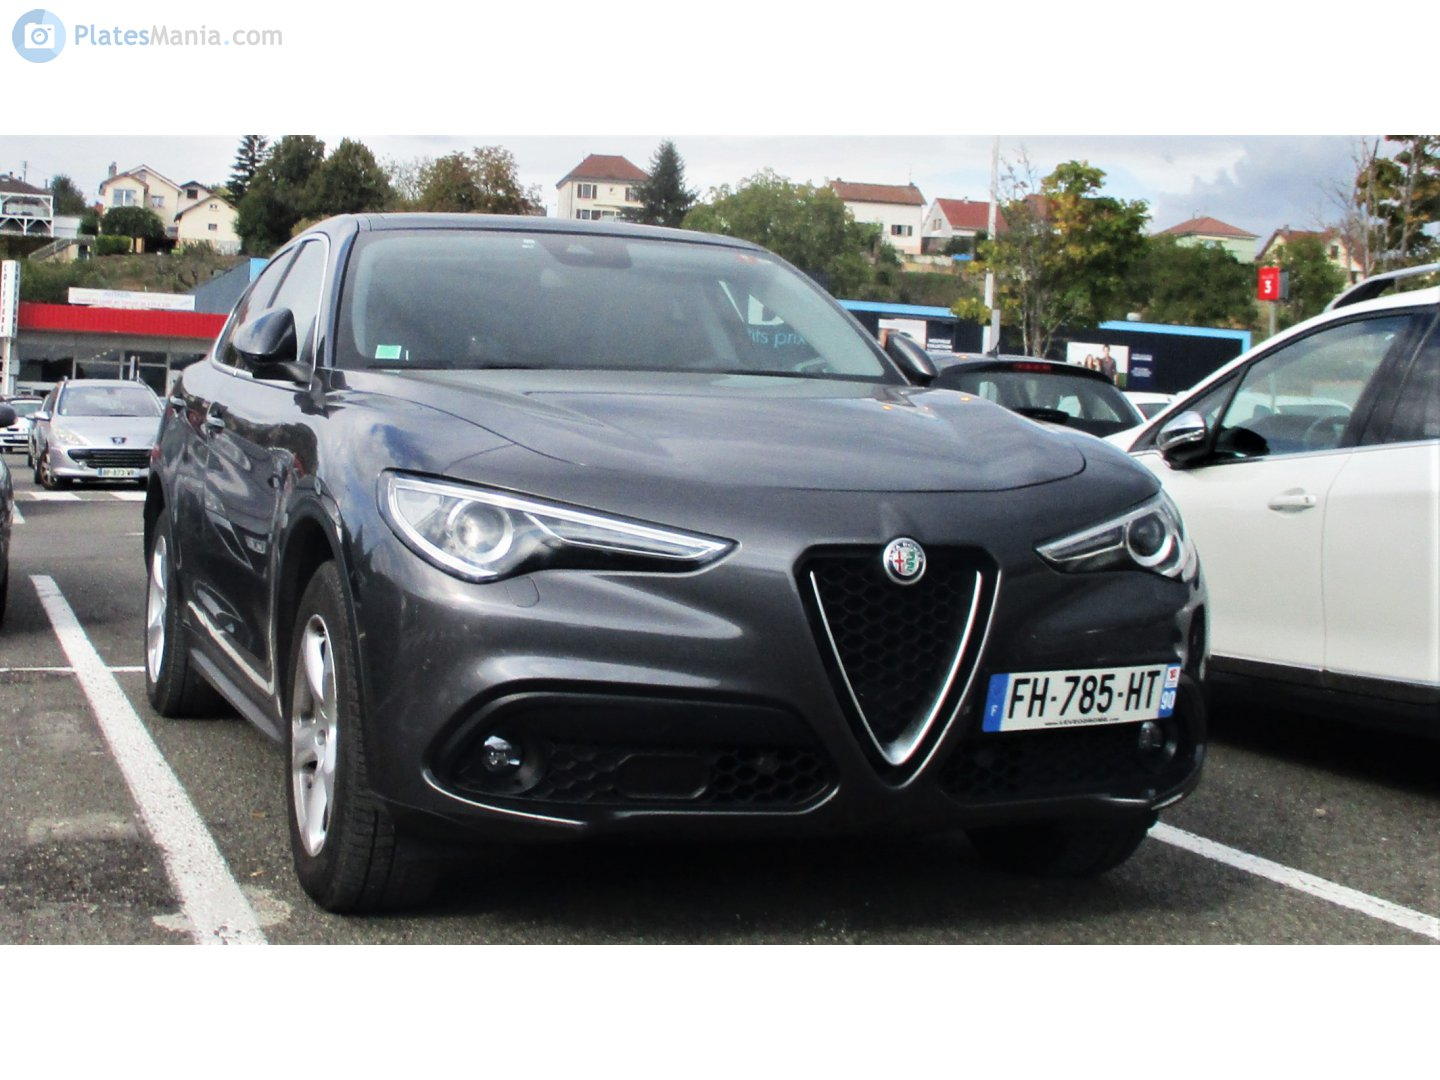licence plate: (973, 659, 1188, 737)
